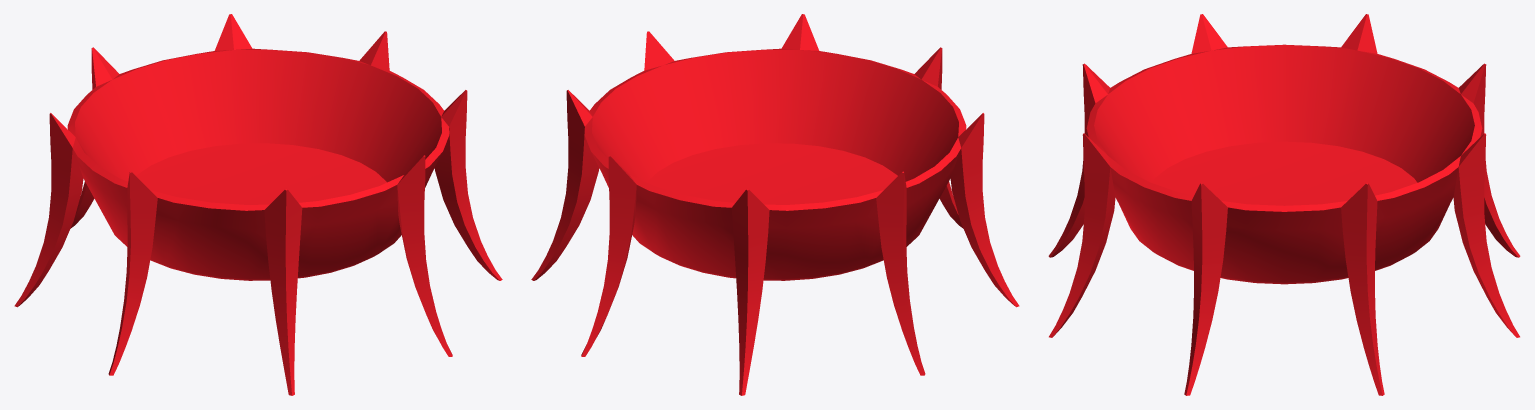
Rendered from dfk_brazier_03.fbx.
The picture shows the model from 3 angles, left to right: view 1: azimuth 30°, elevation 25°; view 2: azimuth 150°, elevation 25°; view 3: azimuth 270°, elevation 25°; orthographic projection. The views are drawn at different scales.
Visible parts, largest first — view 1: Brazier3; view 2: Brazier3; view 3: Brazier3.
Part boxes in pixels (left/top/right/bottom): Brazier3: left=14, top=14, right=502, bottom=395; Brazier3: left=531, top=14, right=1019, bottom=395; Brazier3: left=1048, top=14, right=1520, bottom=395.
Bounding box in the file's own units: 1.17 × 0.5412 × 1.17.
